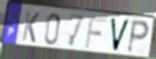0: (43, 12, 62, 47)
7: (67, 13, 84, 49)
F: (84, 16, 108, 49)
K: (21, 10, 41, 45)
P: (126, 18, 151, 56)
V: (109, 17, 131, 54)
